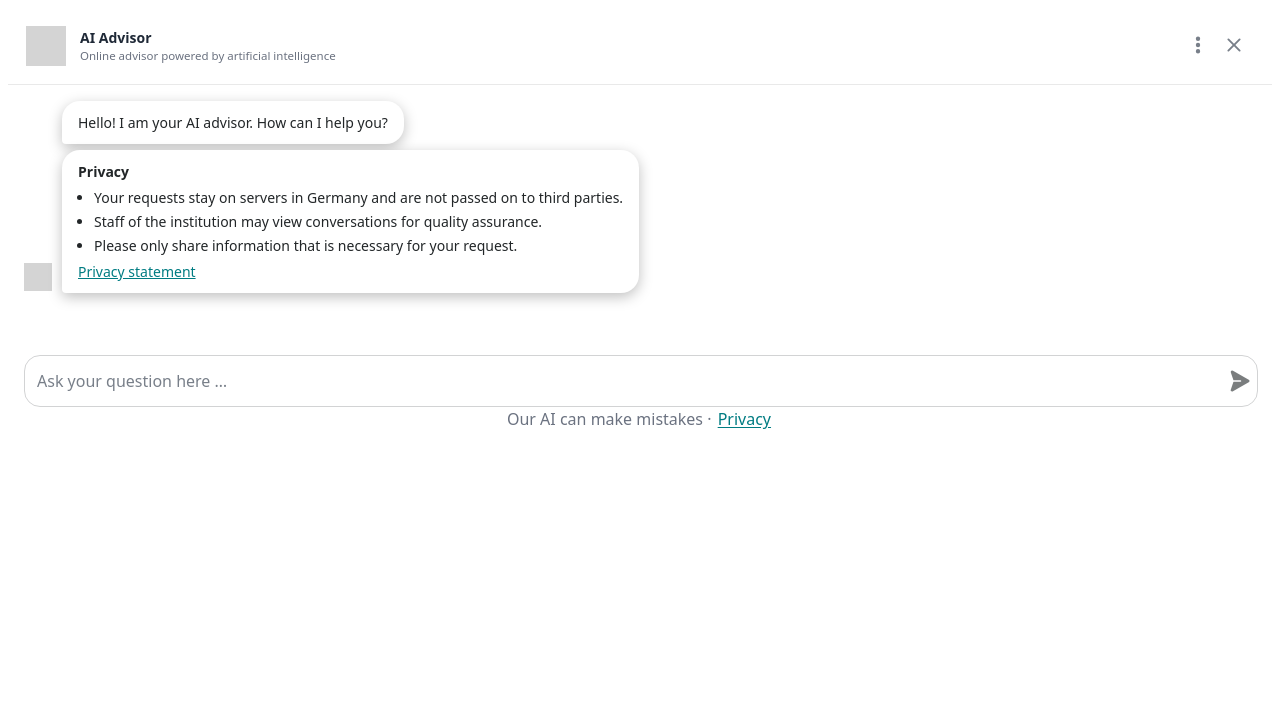
Test: Vertrag 5 (D1): Link „Datenschutz“ in der Fußzeile bleibt, Fenster unverändert › en: Blase und Link, der Link öffnet das Fenster mit KI-Punkt
Expected: the element with id "anything-llm-privacy-bubble" is shown, x1=62 y1=150 x2=639 y2=293
Expected: the text with id "anything-llm-ai-disclaimer-text" reads "Our AI can make mistakes", x1=507 y1=408 x2=703 y2=430
What coordinates should you click on to do the following:
click the button with id "anything-llm-privacy-link"
I would click on:
 (744, 419)
Its box is x1=716 y1=407 x2=773 y2=431.
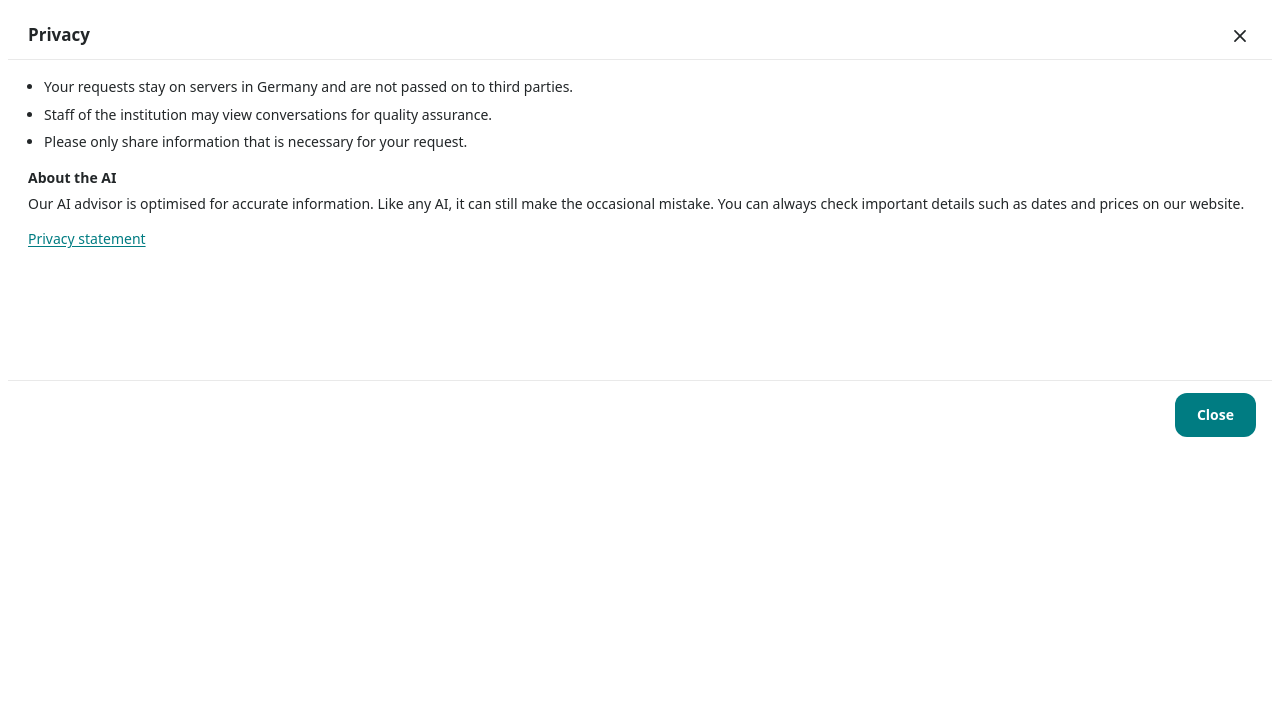
Expected: the dialog is shown
Expected: the dialog shows "About the AI", x1=28 y1=168 x2=116 y2=187
Expected: the dialog shows "Our AI advisor is optimised for accurate information. Like any AI, it can still make the occasional mistake. You can always check important details such as date", x1=28 y1=194 x2=1244 y2=213
